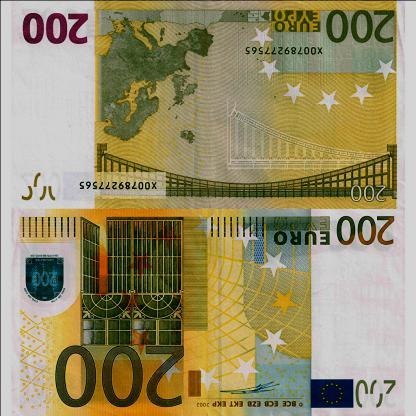euro_banknote: (2, 3, 407, 209), (1, 211, 406, 416)
